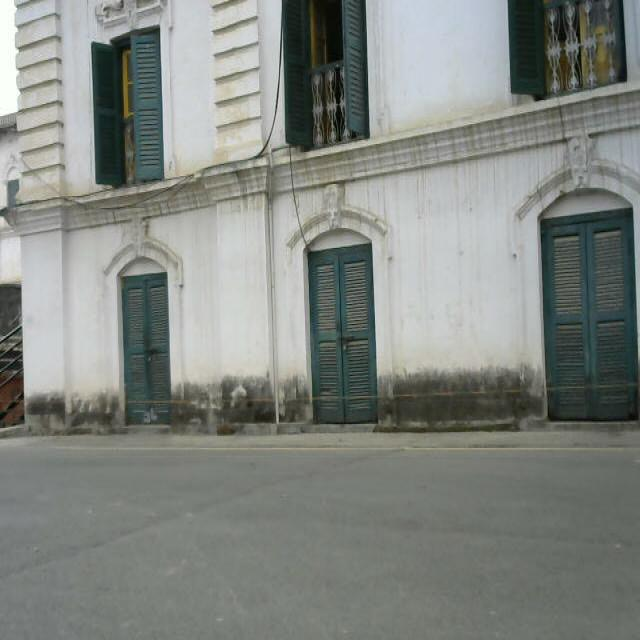Buildings: (16, 3, 638, 440)
Road: (1, 435, 640, 640)
